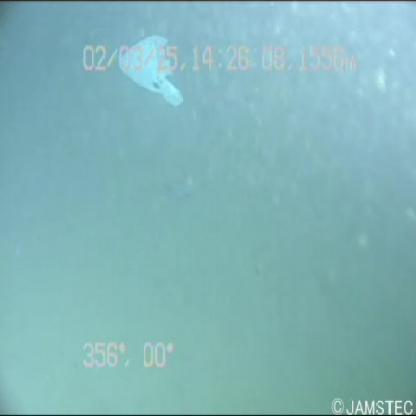Rác: (106, 31, 183, 112)
